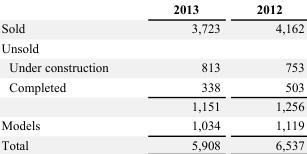table: (0, 1, 303, 151)
table column: (0, 1, 140, 151), (140, 1, 237, 151), (237, 1, 303, 151)
table column header: (0, 1, 303, 18)
table projected row header: (0, 37, 303, 57)
table row: (0, 37, 303, 57), (0, 95, 303, 115), (0, 18, 303, 37), (0, 57, 303, 76), (0, 76, 303, 95), (0, 115, 303, 134), (0, 1, 303, 18), (0, 134, 303, 151)
